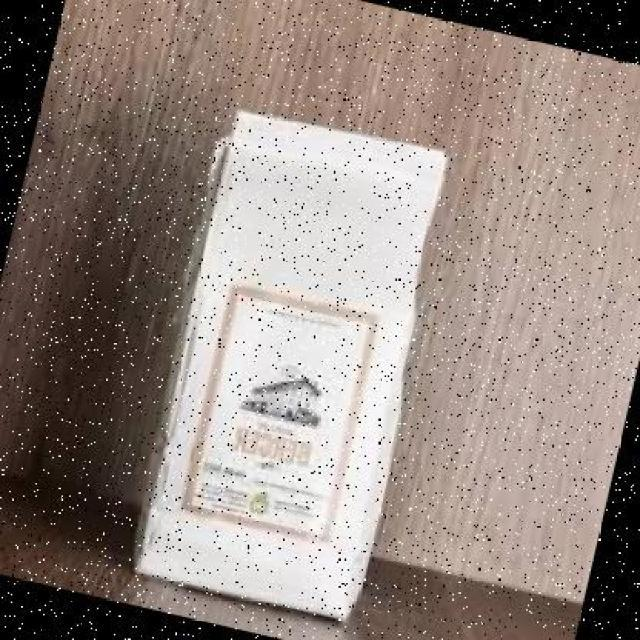gunny_bag: (130, 110, 449, 624)
